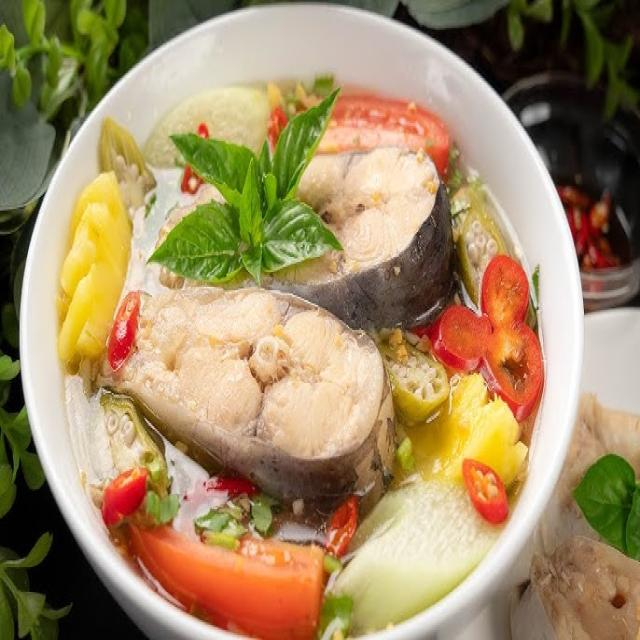canh chua: (57, 76, 543, 638)
